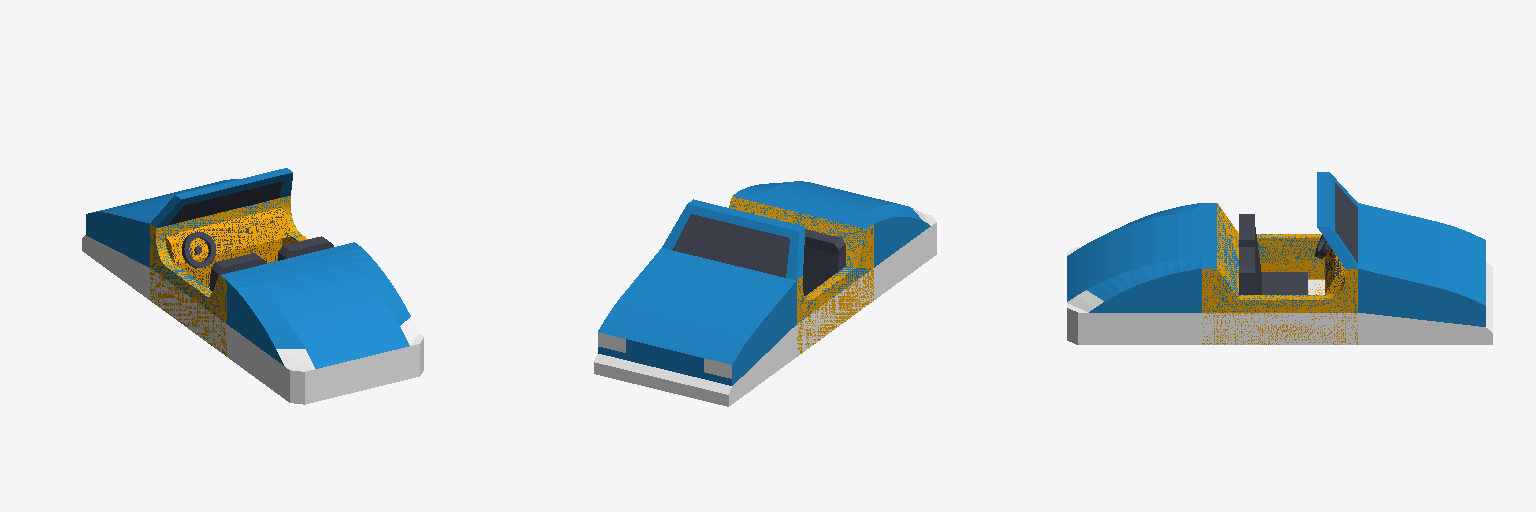
The model's file is car1.obj.
3 renders of one model, left to right at view 1: azimuth 30°, elevation 25°; view 2: azimuth 150°, elevation 25°; view 3: azimuth 270°, elevation 25°, orthographic.
Bounding box in the file's own units: 1 × 0.8 × 2.74.